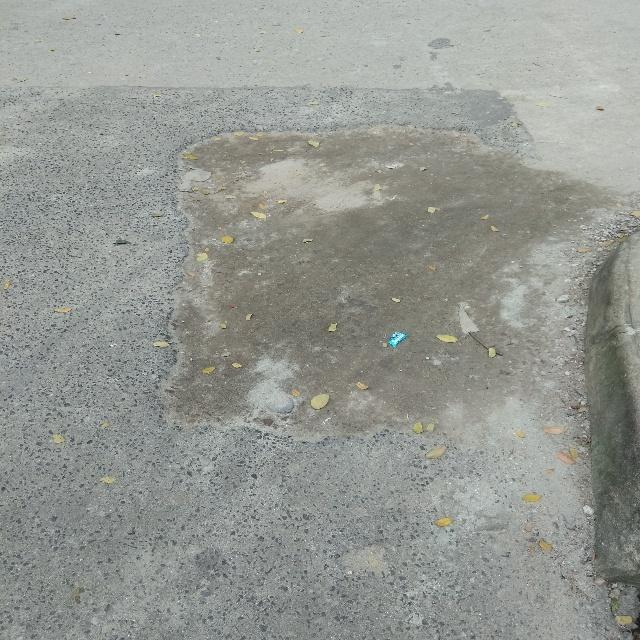Surface Erosion: (84, 42, 640, 548)
